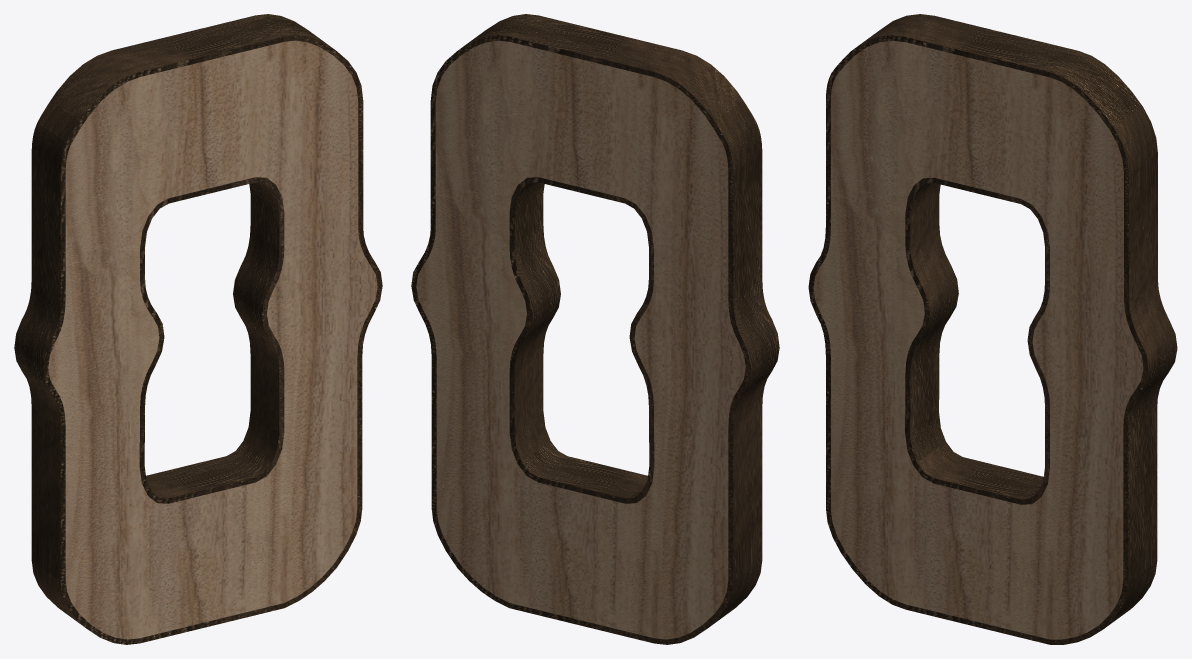
3 views of the same model, side by side, from view 1: azimuth 30°, elevation 25°; view 2: azimuth 150°, elevation 25°; view 3: azimuth 330°, elevation 25° (orthographic).
Parts seen in each view (by area): view 1: 0, 0_outline; view 2: 0, 0_outline; view 3: 0, 0_outline.
Part boxes in pixels (x1,y1,x2,y2): 0: [48, 40, 377, 639]; 0_outline: [14, 14, 382, 644]; 0: [416, 40, 745, 639]; 0_outline: [411, 14, 779, 644]; 0: [813, 40, 1143, 639]; 0_outline: [808, 14, 1177, 644].
Size of the model in its own units: 67.7 by 109 by 10.
Materials: 2 (2 with a texture image).
